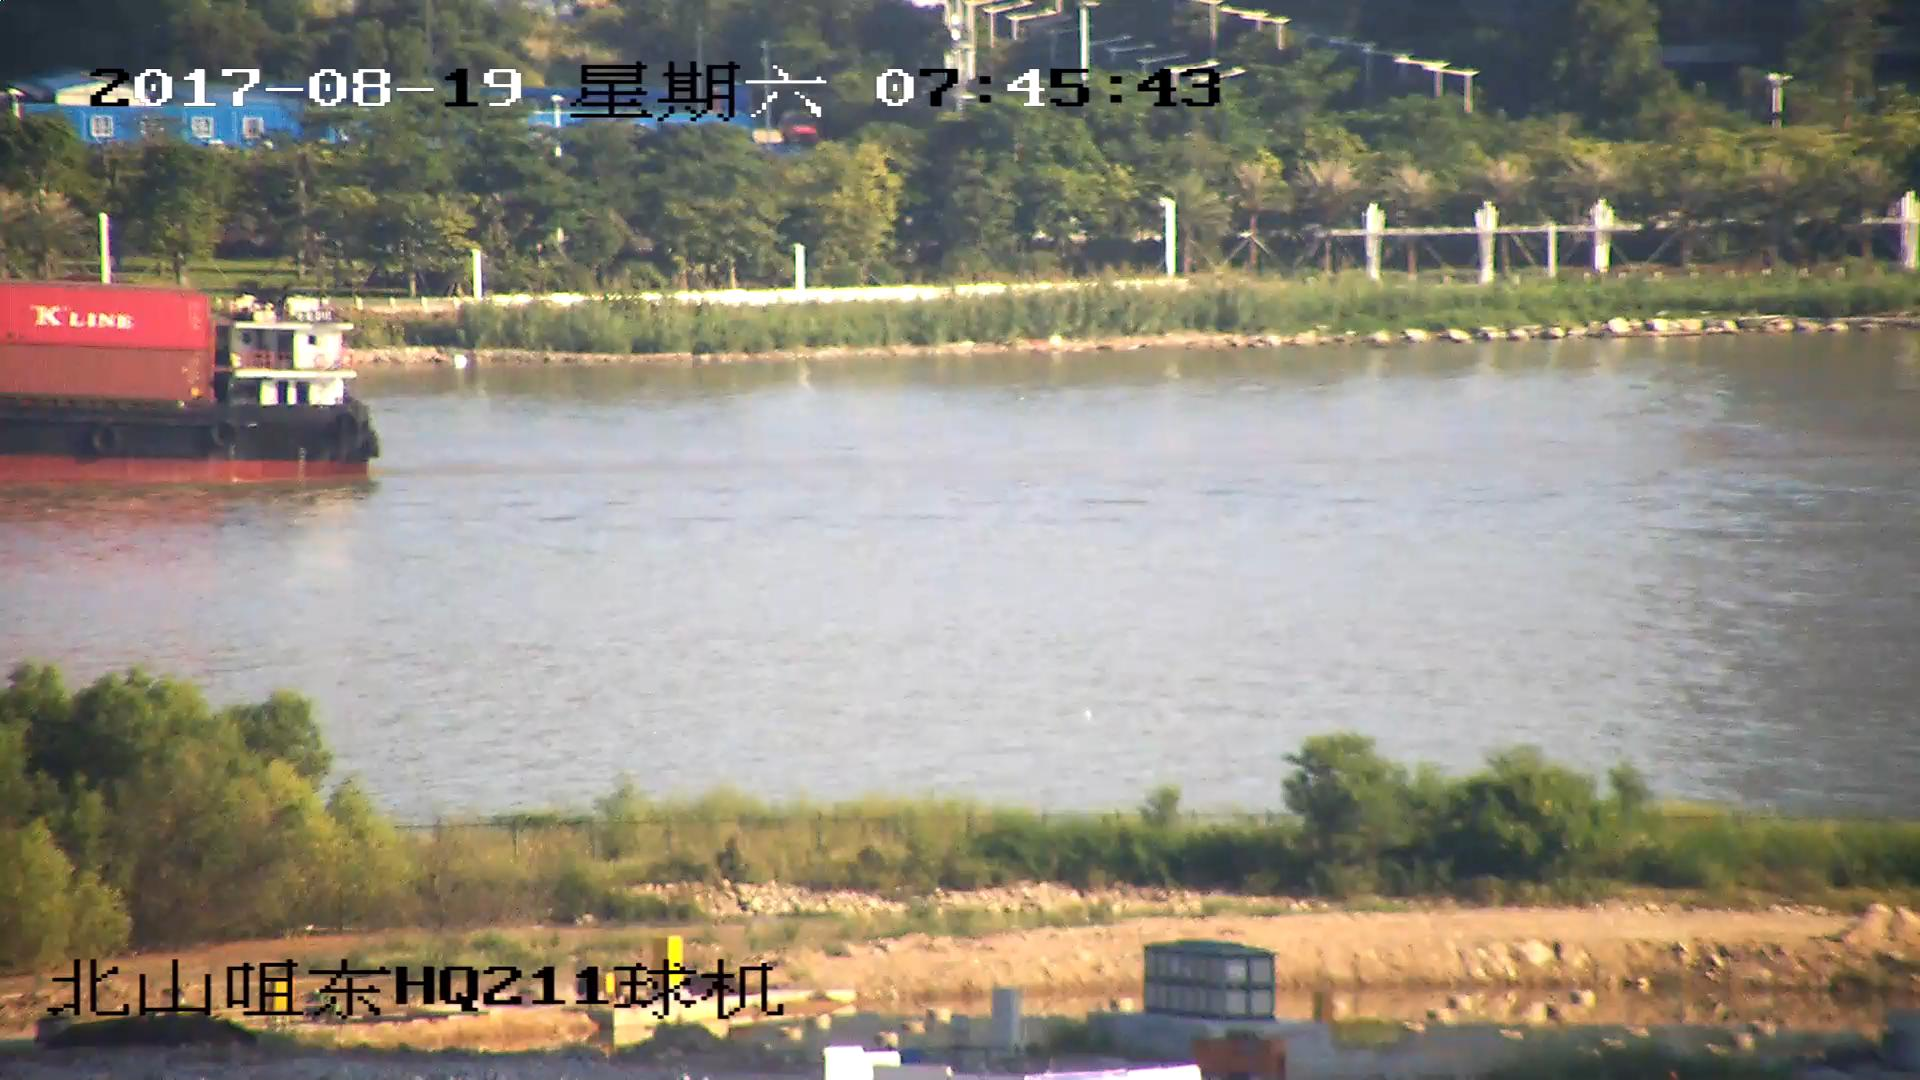container ship: (1, 271, 384, 488)
